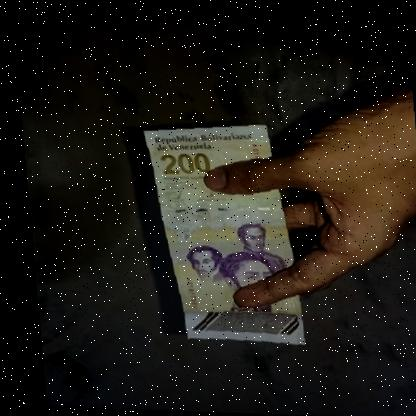vef_front: (126, 108, 310, 347)
